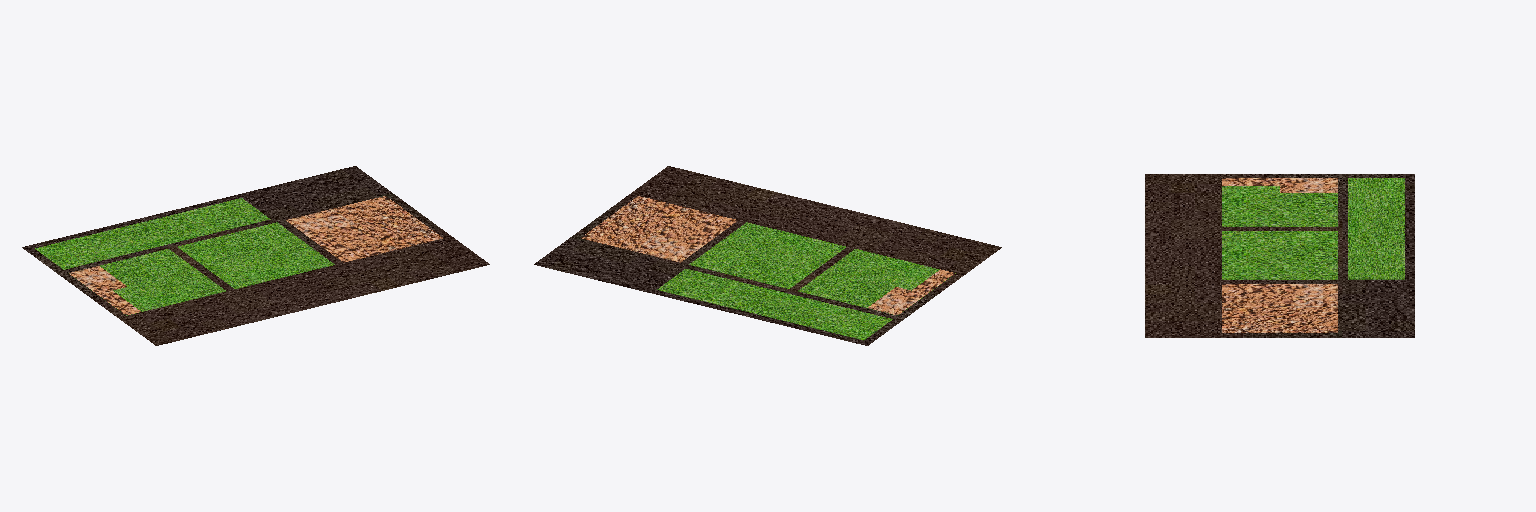
3 renders of one model, left to right at view 1: azimuth 30°, elevation 25°; view 2: azimuth 150°, elevation 25°; view 3: azimuth 270°, elevation 25°, orthographic.
Visible parts, largest first — view 1: Plane, Cube.002_Cube.003, Cube_Cube.001, Cube.001_Cube.002, Cube.003_Cube.004; view 2: Plane, Cube.002_Cube.003, Cube_Cube.001, Cube.001_Cube.002, Cube.003_Cube.004; view 3: Plane, Cube.002_Cube.003, Cube_Cube.001, Cube.001_Cube.002, Cube.003_Cube.004.
Part boxes in pixels (bbox=[...]): Plane: bbox=[22, 166, 489, 345]; Cube.002_Cube.003: bbox=[35, 198, 270, 269]; Cube_Cube.001: bbox=[68, 249, 225, 315]; Cube.001_Cube.002: bbox=[178, 222, 334, 288]; Cube.003_Cube.004: bbox=[286, 196, 442, 262]; Plane: bbox=[534, 166, 1001, 345]; Cube.002_Cube.003: bbox=[657, 269, 892, 340]; Cube_Cube.001: bbox=[798, 249, 955, 315]; Cube.001_Cube.002: bbox=[689, 222, 845, 288]; Cube.003_Cube.004: bbox=[581, 196, 737, 262]; Plane: bbox=[1145, 174, 1414, 337]; Cube.002_Cube.003: bbox=[1348, 178, 1404, 279]; Cube_Cube.001: bbox=[1222, 178, 1337, 226]; Cube.001_Cube.002: bbox=[1222, 231, 1337, 279]; Cube.003_Cube.004: bbox=[1222, 284, 1337, 332].
Bounding box in the file's own units: 200 × 0.4 × 140.
Materials: 6 (3 with a texture image).